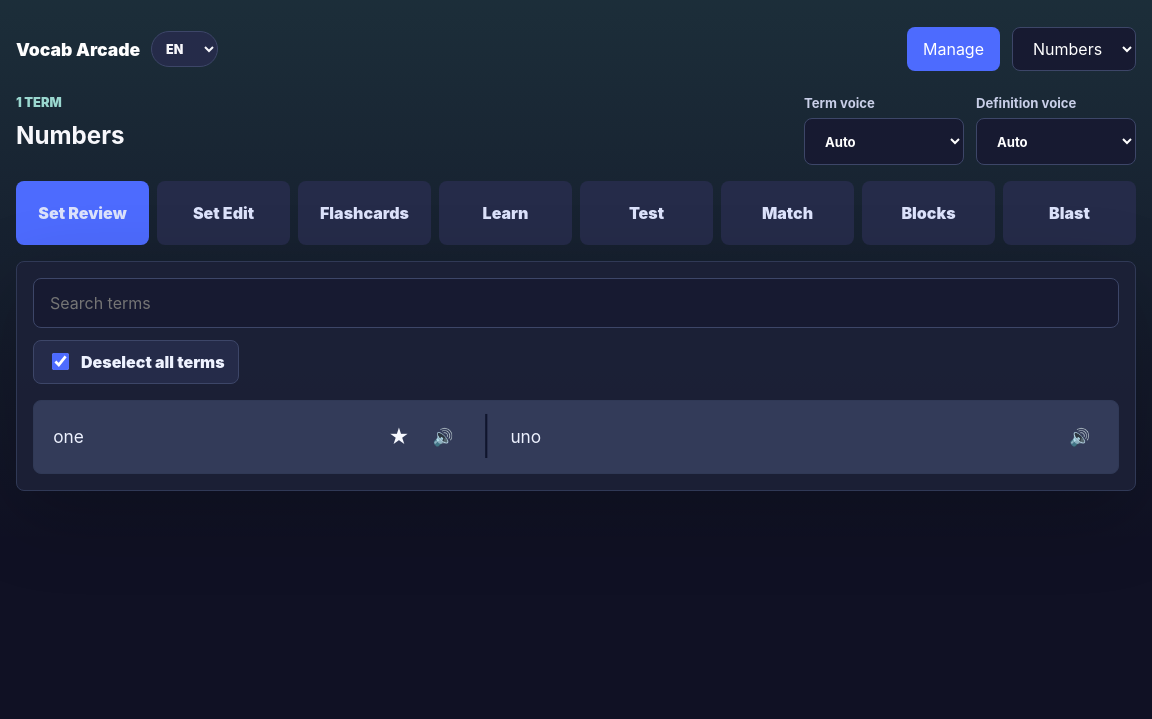
Test case: App › renames saved sets from management and updates persisted order data
Step 1. Click the button "Manage" → click(954, 49), box top-left (907, 27), bottom-right (1000, 71)
(page scrolled)
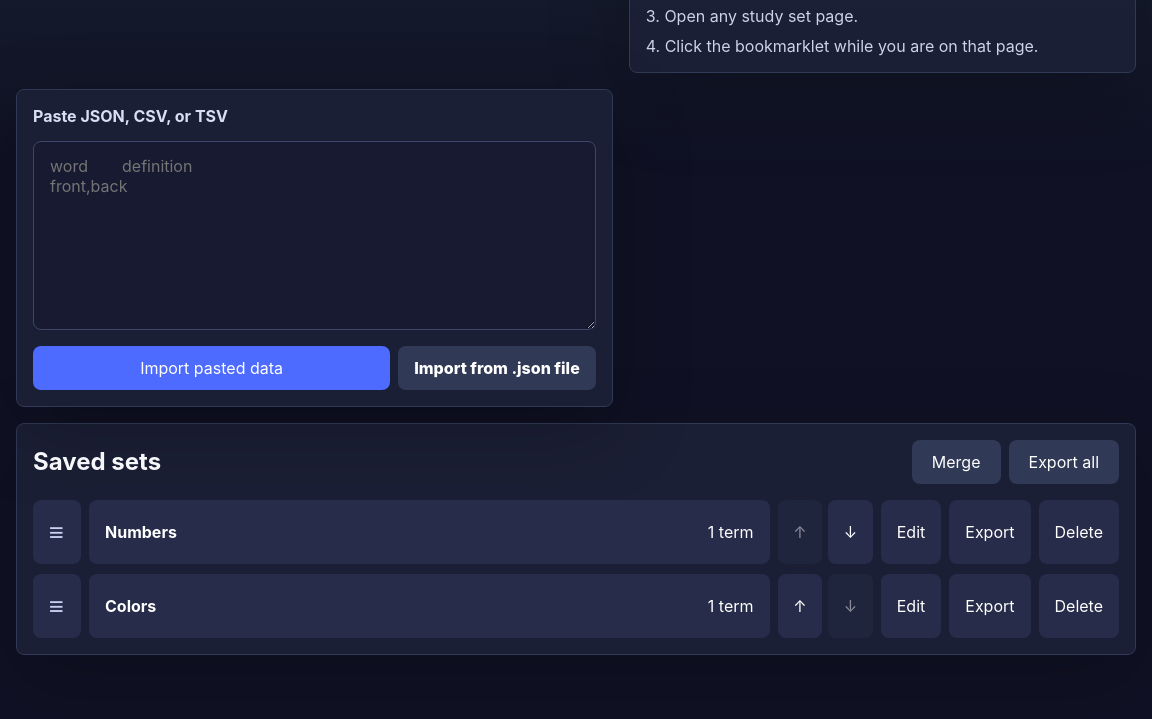
Step 2. Click the button with aria-label "Edit title for Numbers" → click(911, 532), box top-left (881, 500), bottom-right (941, 564)
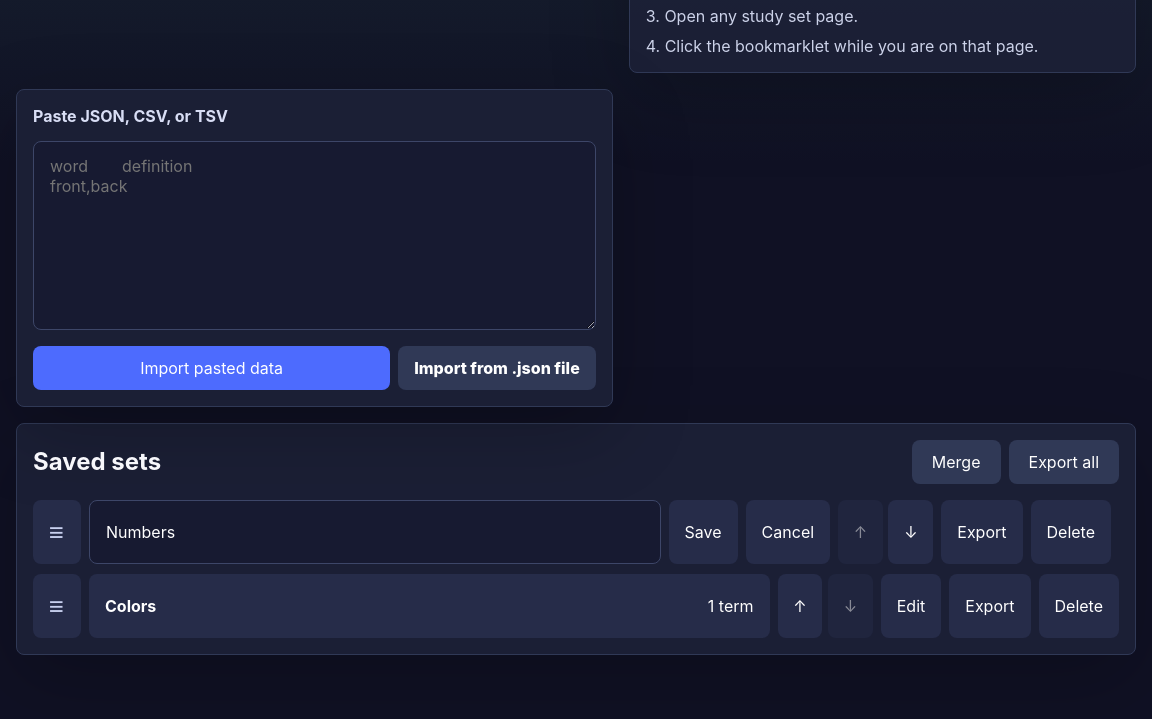
Step 3. Replace the text in the field named "Set title" with "Renamed Numbers" → (375, 532), box top-left (89, 500), bottom-right (661, 564)
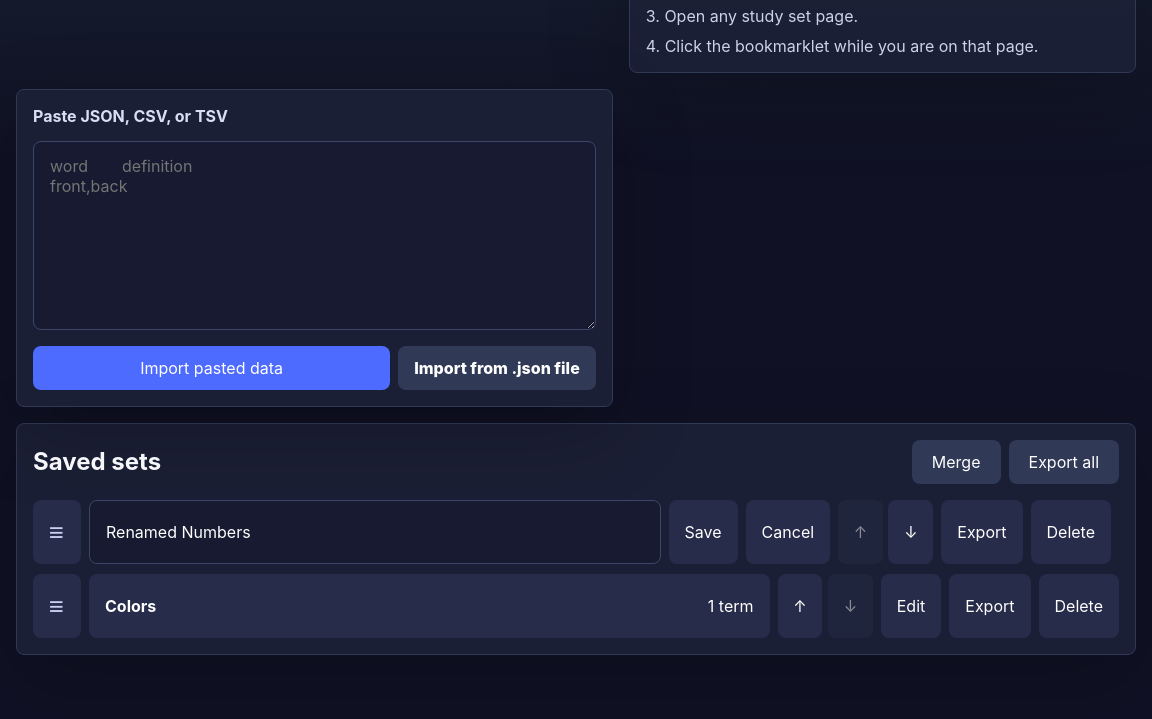
Step 4. Click the button "Save" → click(703, 532), box top-left (669, 500), bottom-right (738, 564)
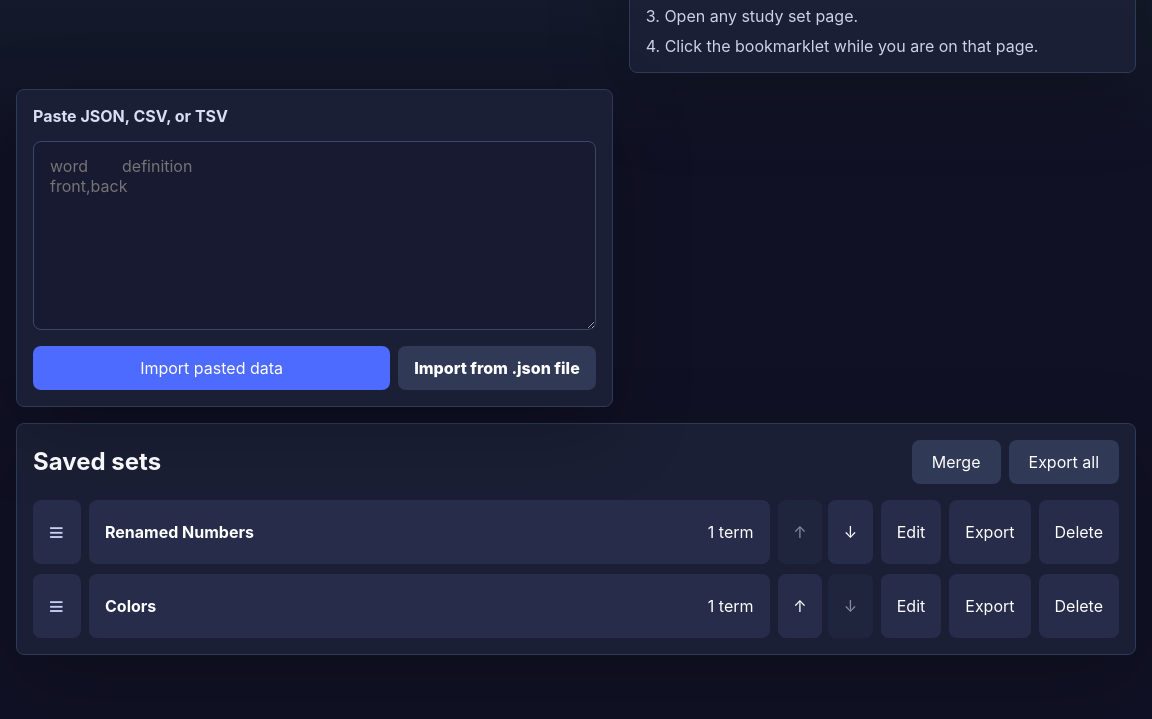
Result: the text "Renamed Numbers" is shown 2 times
